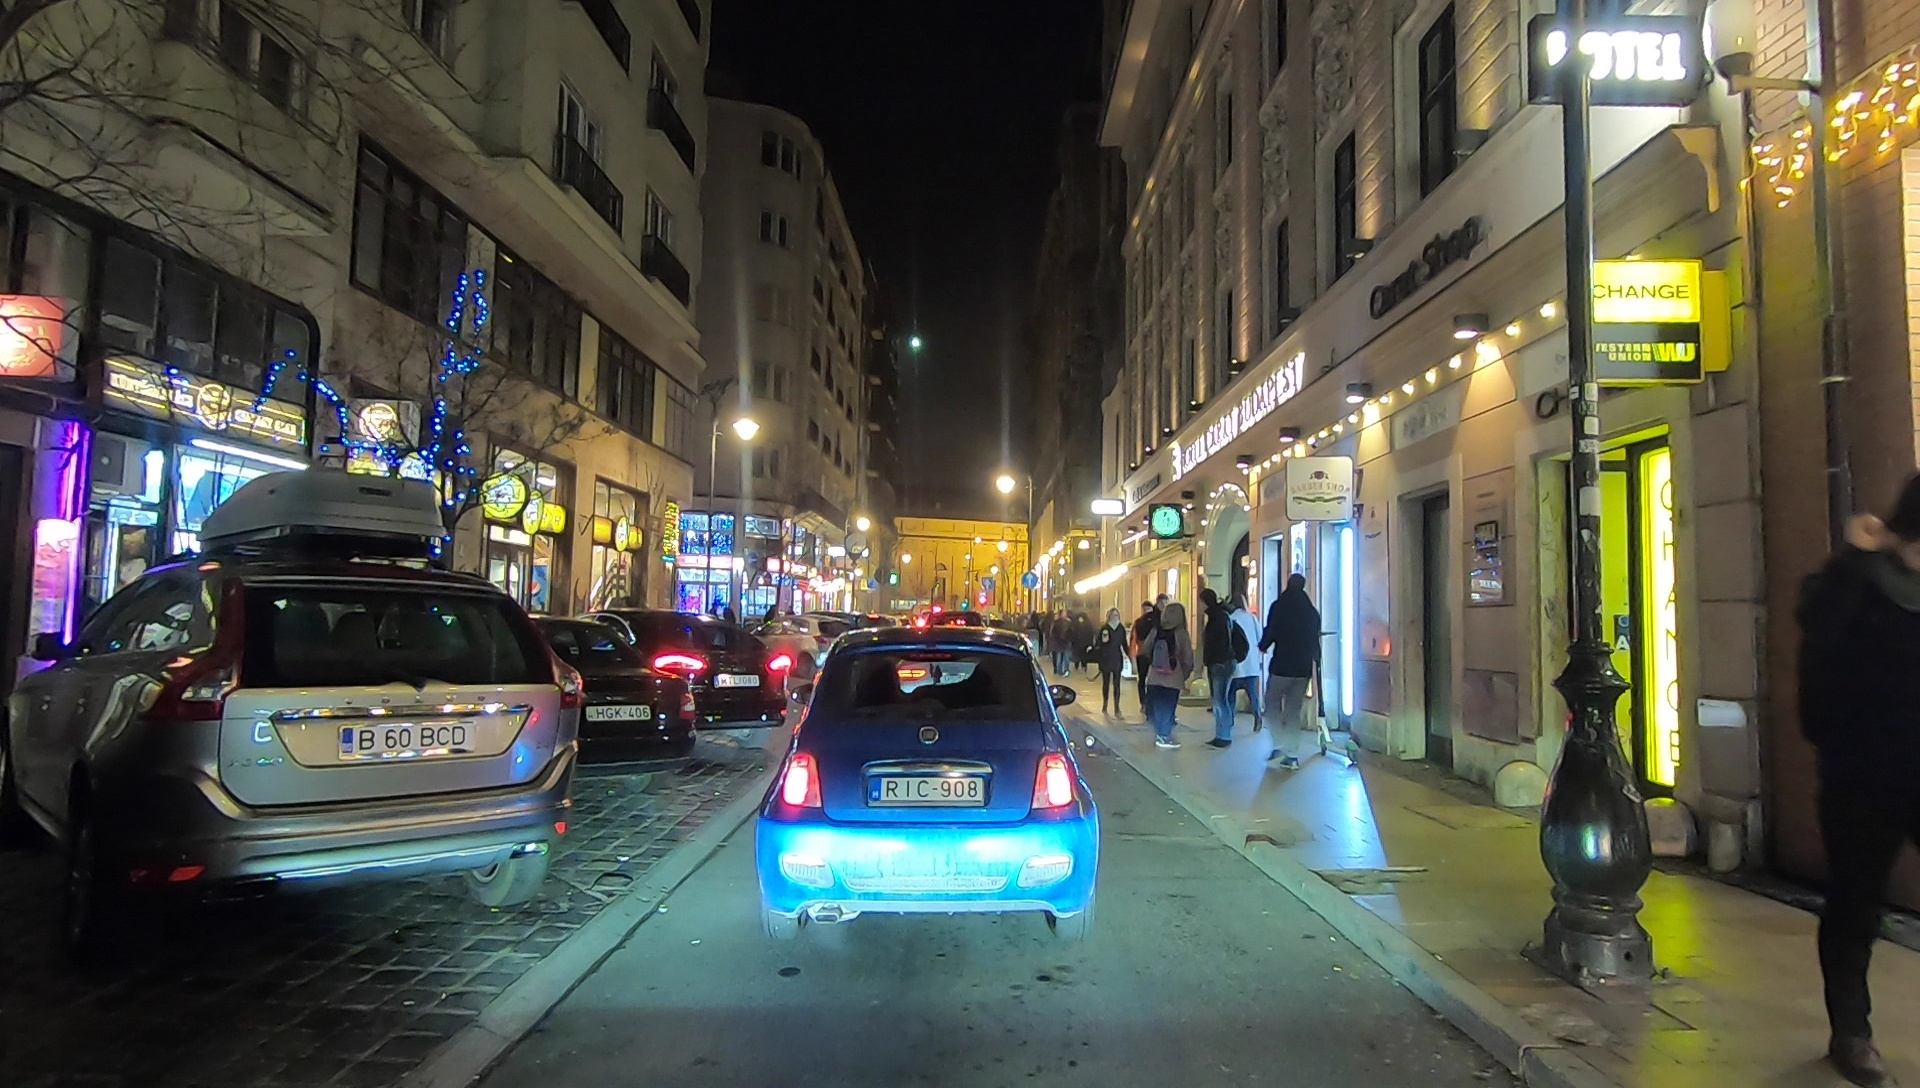person: (1804, 463, 1917, 1088), (1262, 574, 1317, 776), (1221, 591, 1267, 733), (1196, 589, 1237, 747), (1149, 601, 1190, 752), (1137, 596, 1174, 722), (1096, 605, 1130, 721), (1047, 607, 1073, 677), (1073, 611, 1092, 673), (1025, 611, 1044, 660)
